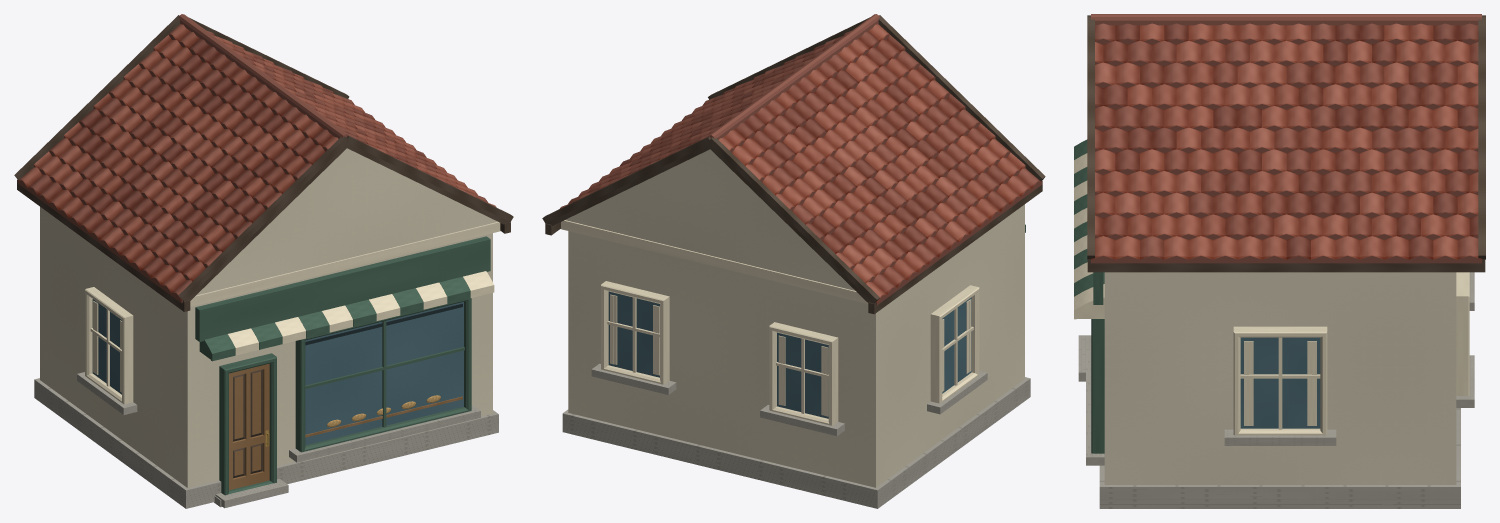
Rendered from shop-crafted.glb.
3 views of the same model, side by side, from view 1: azimuth 30°, elevation 25°; view 2: azimuth 150°, elevation 25°; view 3: azimuth 270°, elevation 25° (orthographic). The views are drawn at different scales.
Visible parts, largest first — view 1: shop authored architecture; view 2: shop authored architecture; view 3: shop authored architecture.
Boxes of the visible parts, x1,y1,x2,y2 form: shop authored architecture: [14, 14, 513, 508]; shop authored architecture: [542, 14, 1045, 508]; shop authored architecture: [1074, 14, 1485, 508].
Bounding box in the file's own units: 6 × 5.87 × 5.41.
Materials: 1 (1 with a texture image).
